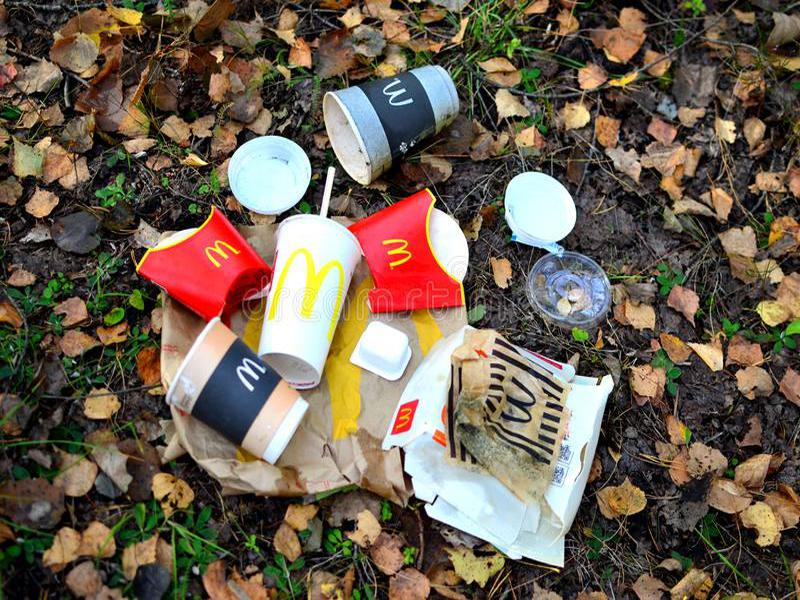cardboard: (376, 323, 617, 575)
cup: (257, 170, 365, 388), (160, 317, 312, 467), (317, 62, 465, 183), (129, 204, 277, 321), (347, 188, 480, 317)
